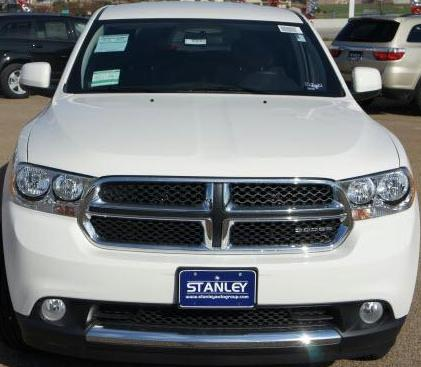front_view: (20, 151, 411, 339)
headlight: (319, 150, 415, 233)
